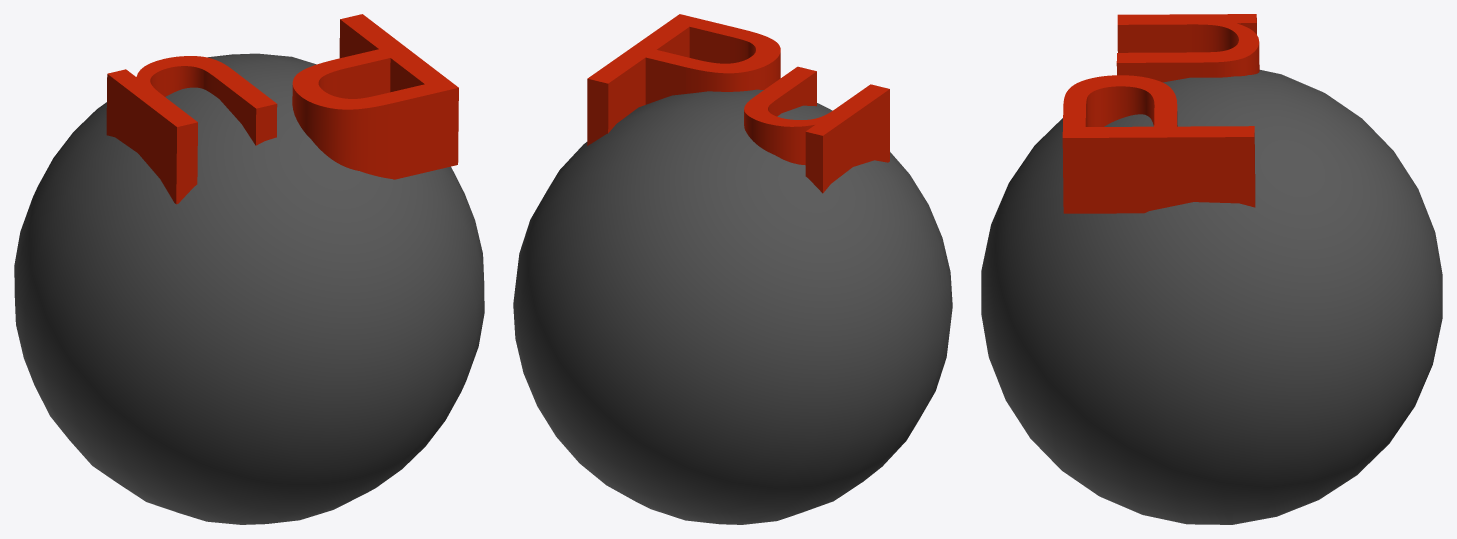
3 renders of one model, left to right at view 1: azimuth 30°, elevation 25°; view 2: azimuth 150°, elevation 25°; view 3: azimuth 270°, elevation 25°, orthographic. The views are drawn at different scales.
Visible parts, largest first — view 1: Pu; view 2: Pu; view 3: Pu.
Part boxes in pixels (bbox=[...]): Pu: bbox=[14, 14, 484, 524]; Pu: bbox=[513, 14, 952, 524]; Pu: bbox=[981, 14, 1442, 524].
Size of the model in its own units: 38.74 by 39.89 by 38.57.
